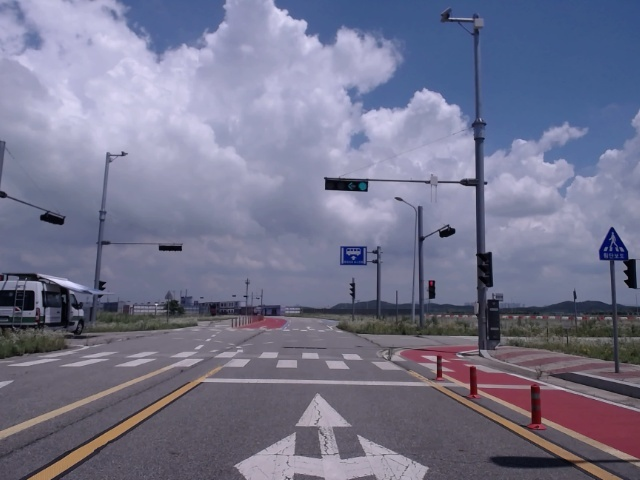all_green_4: (322, 177, 369, 194)
